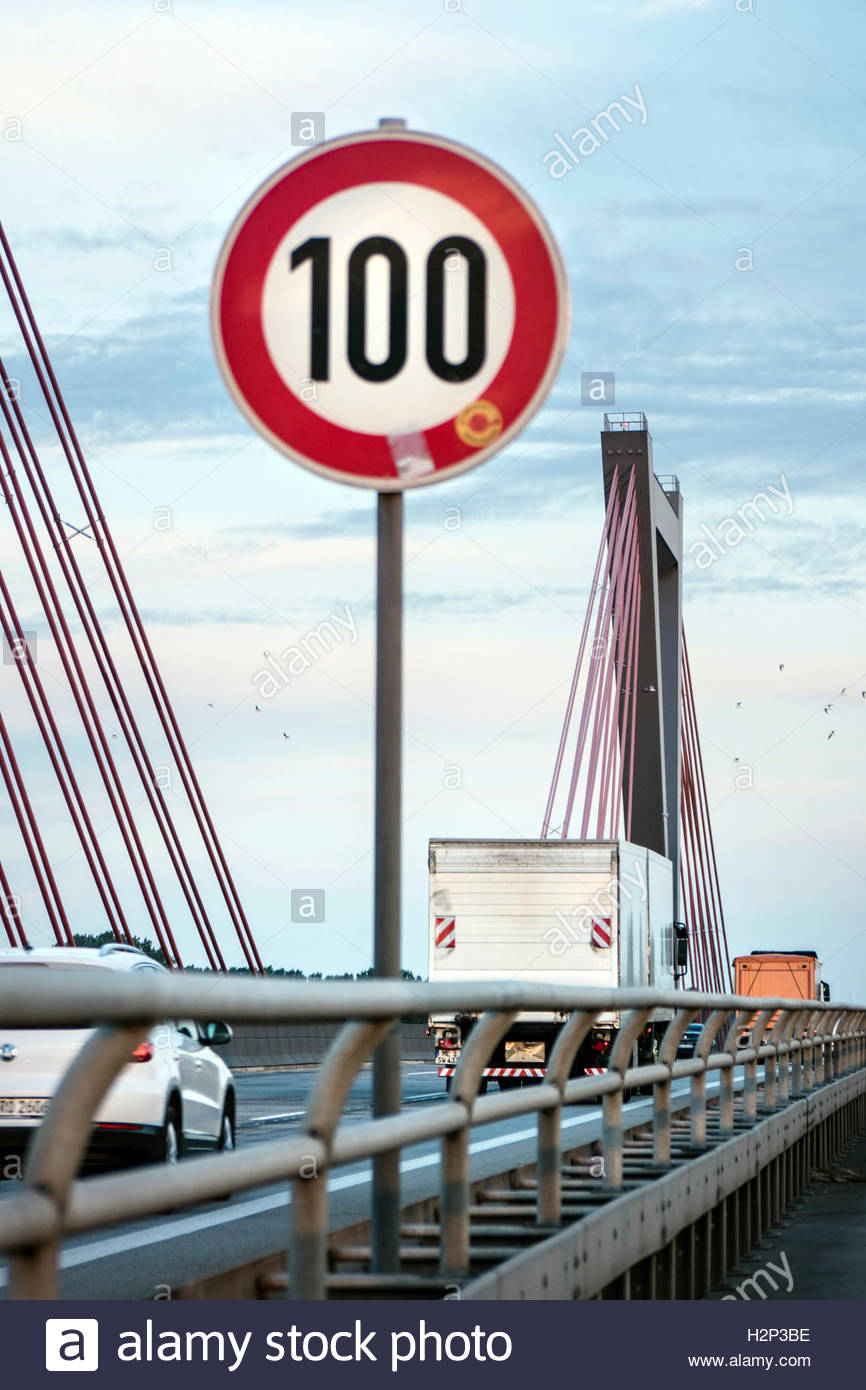Speed_limit_100km: (211, 126, 573, 492)
